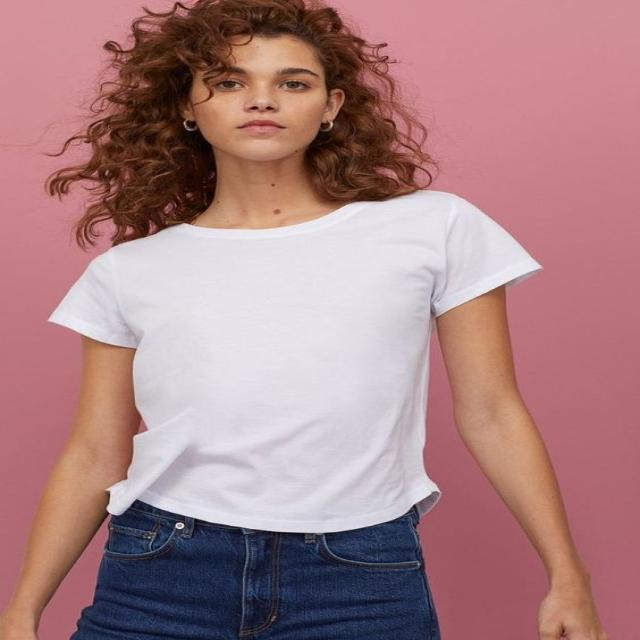Upper-Body: (51, 188, 543, 532)
